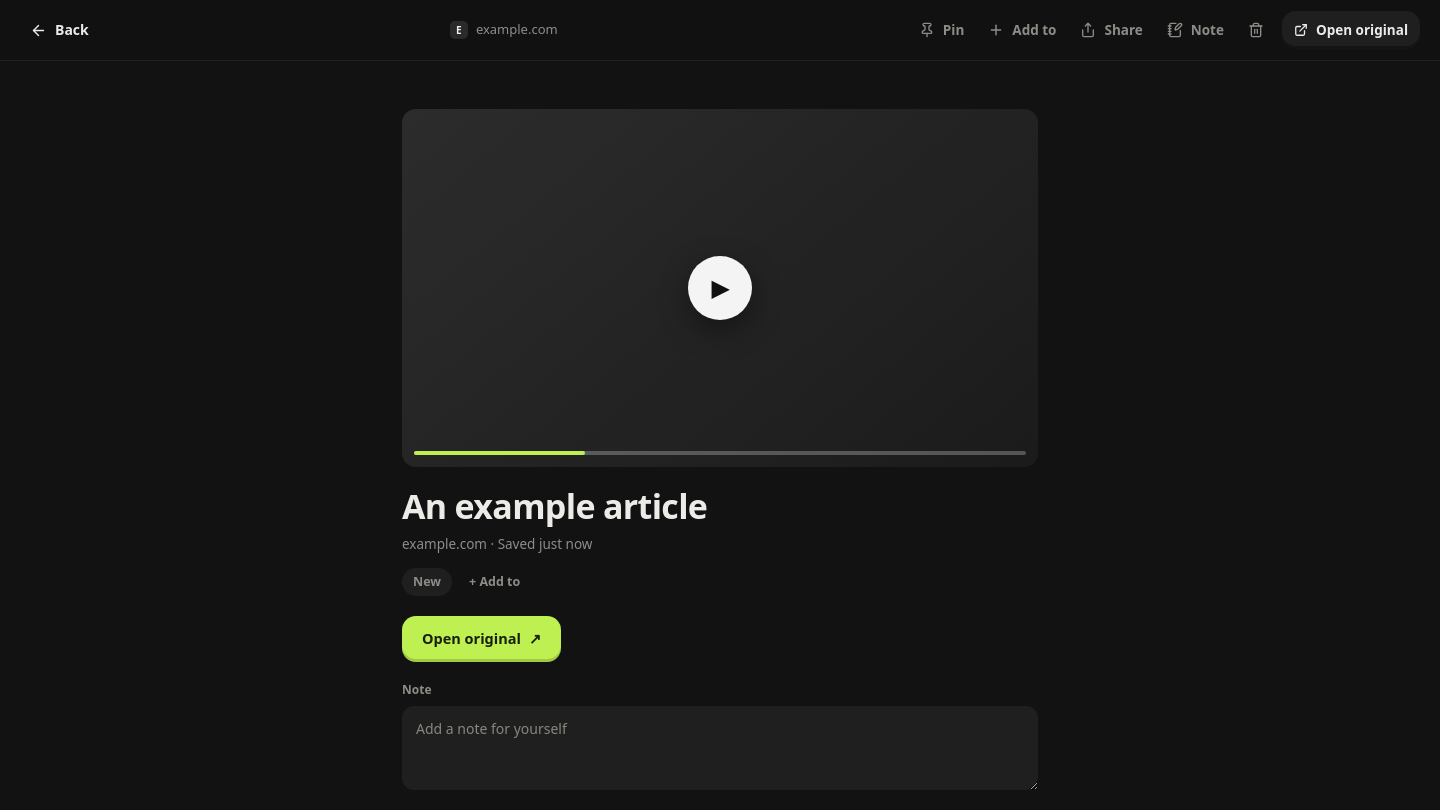
it: a link's preview › opens the collection picker from + Add to
Click the button "+ Add to".
click(495, 582)  # box 458,568 -> 531,596
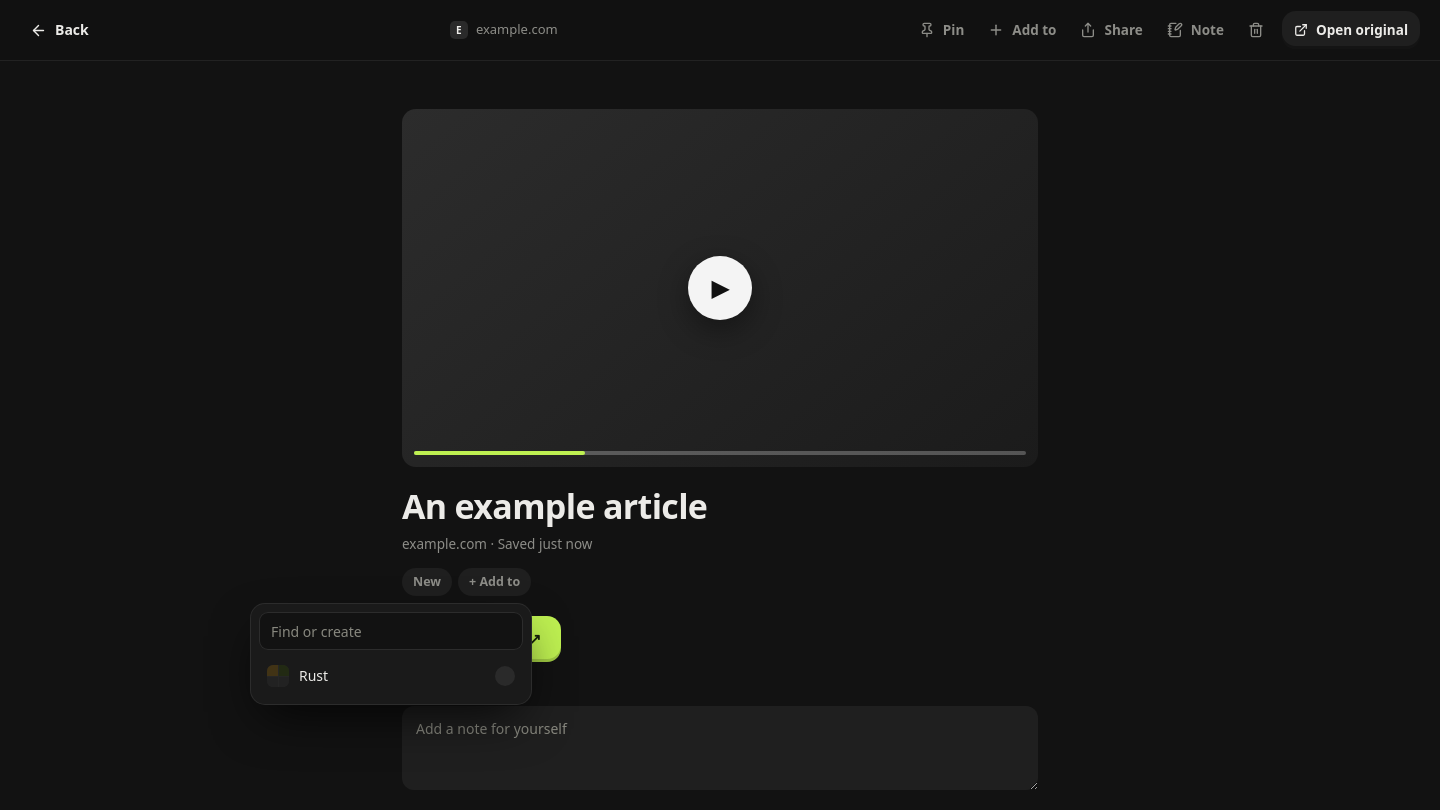
Now the button "Rust" is shown, box 259,656 -> 523,696
